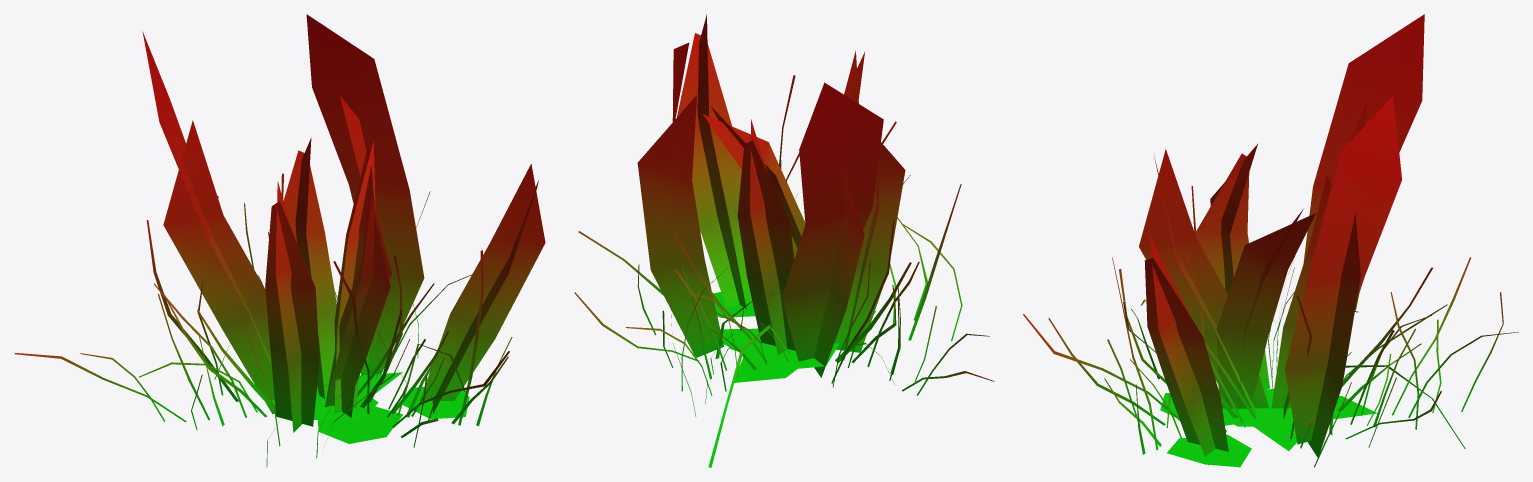
Rendered from Var12_LOD1.fbx.
The picture shows the model from 3 angles, left to right: view 1: azimuth 30°, elevation 25°; view 2: azimuth 150°, elevation 25°; view 3: azimuth 270°, elevation 25°; orthographic projection.
Visible parts, largest first — view 1: _e1b5_Var12_LOD1; view 2: _e1b5_Var12_LOD1; view 3: _e1b5_Var12_LOD1.
Part boxes in pixels (x1,y1,x2,y2): _e1b5_Var12_LOD1: (14,14,545,467); _e1b5_Var12_LOD1: (574,14,994,467); _e1b5_Var12_LOD1: (1023,14,1518,467).
Size of the model in its own units: 15.55 by 12.84 by 14.8.
